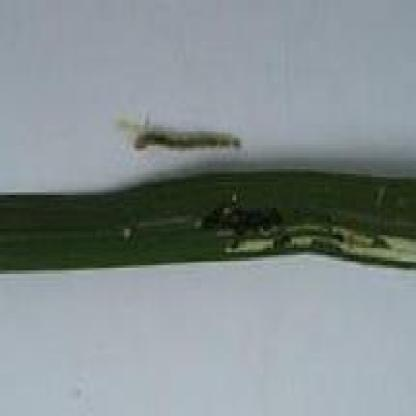leaf-folder: (122, 81, 253, 165)
